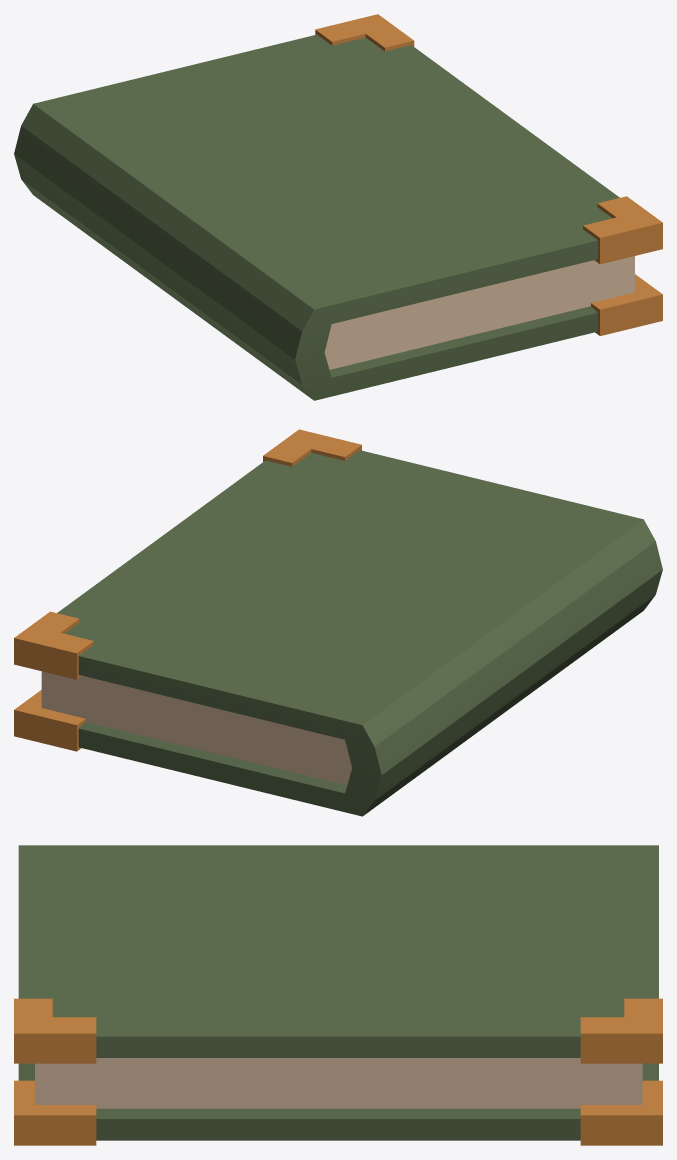
The model's file is Book_05.fbx.
3 views of the same model, one above another, from view 1: azimuth 30°, elevation 25°; view 2: azimuth 150°, elevation 25°; view 3: azimuth 270°, elevation 25° (orthographic). The views are drawn at different scales.
Visible parts, largest first — view 1: Book_05; view 2: Book_05; view 3: Book_05.
Boxes of the visible parts, bbox=[...] form: Book_05: bbox=[14, 14, 662, 400]; Book_05: bbox=[14, 429, 662, 816]; Book_05: bbox=[14, 845, 662, 1145].
Size of the model in its own units: 20.29 by 5.2 by 27.38.
